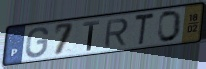7: (53, 21, 76, 58)
G: (24, 26, 51, 59)
O: (157, 9, 183, 44)
R: (103, 17, 130, 49)
T: (133, 12, 155, 47), (82, 20, 102, 52)
